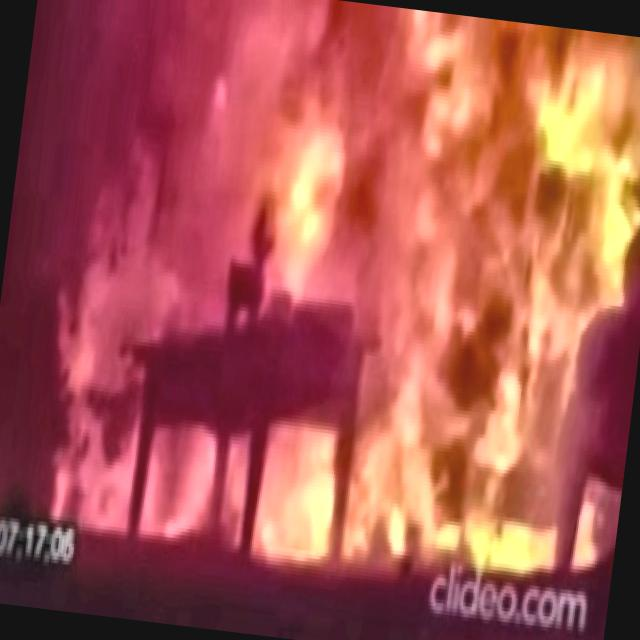fire: (13, 0, 640, 561)
